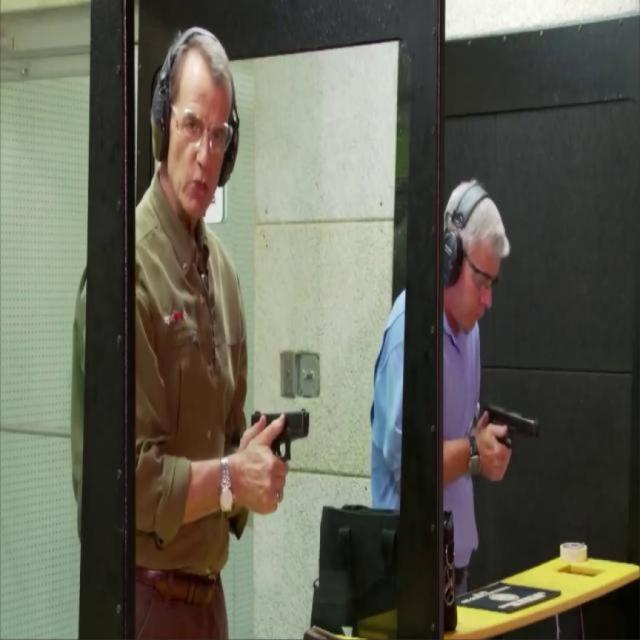pistol: (250, 404, 310, 464), (482, 400, 540, 462)
